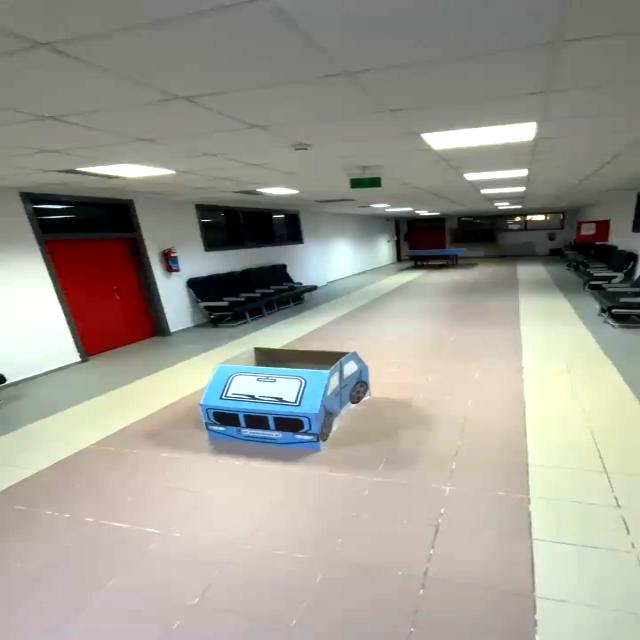blue_car: (128, 326, 508, 491)
